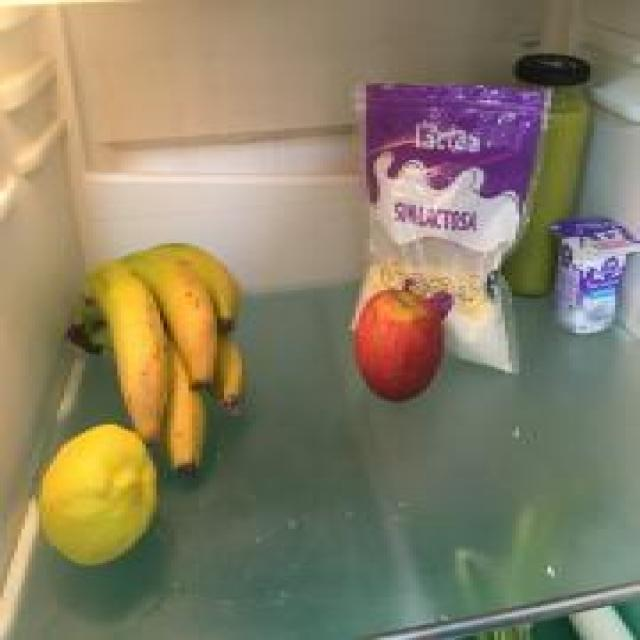apple: (350, 277, 450, 410)
banana: (71, 258, 167, 446), (115, 243, 218, 393)
grated_cheese: (354, 79, 535, 294)
lemon: (36, 418, 167, 583)
yogurt: (550, 208, 638, 357)
